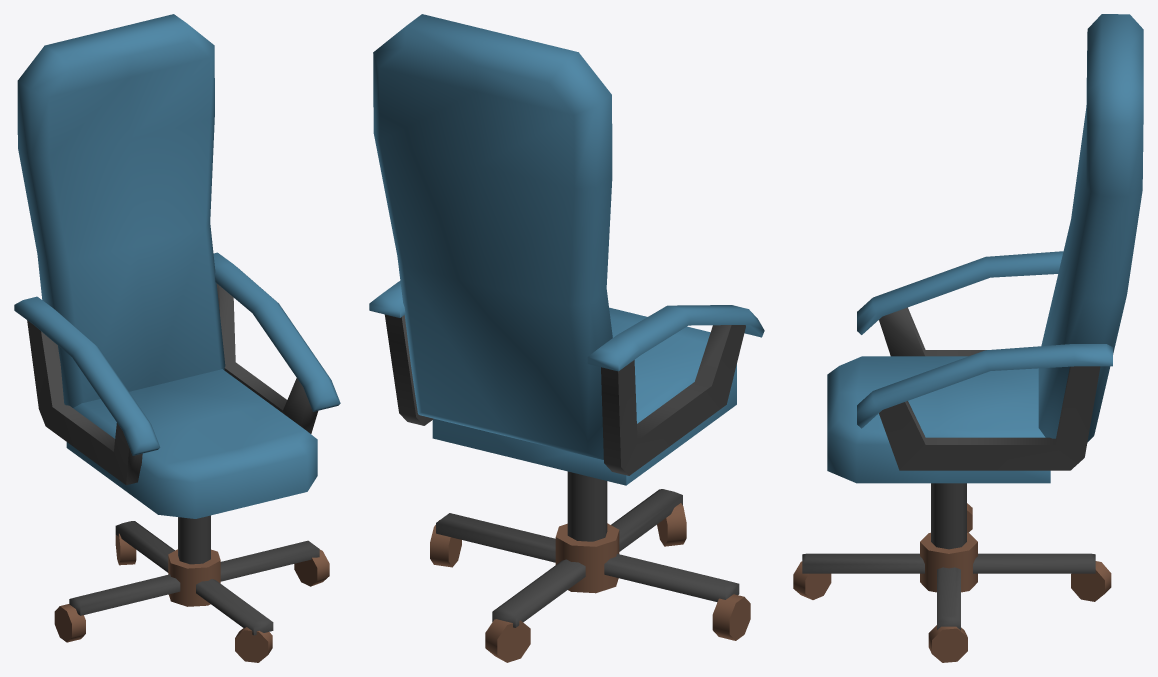
Rendered from mesh_chair_01.fbx.
The picture shows the model from 3 angles, left to right: view 1: azimuth 30°, elevation 25°; view 2: azimuth 150°, elevation 25°; view 3: azimuth 270°, elevation 25°; orthographic projection. The views are drawn at different scales.
Visible parts, largest first — view 1: mesh_chair_01_2, mesh_chair_01; view 2: mesh_chair_01_2, mesh_chair_01; view 3: mesh_chair_01_2, mesh_chair_01.
Boxes of the visible parts, x1,y1,x2,y2 form: mesh_chair_01_2: [14, 14, 340, 518]; mesh_chair_01: [54, 515, 329, 662]; mesh_chair_01_2: [369, 14, 764, 485]; mesh_chair_01: [430, 471, 750, 662]; mesh_chair_01_2: [827, 14, 1143, 483]; mesh_chair_01: [793, 483, 1111, 662].
Size of the model in its own units: 22.94 by 44.49 by 25.67.
